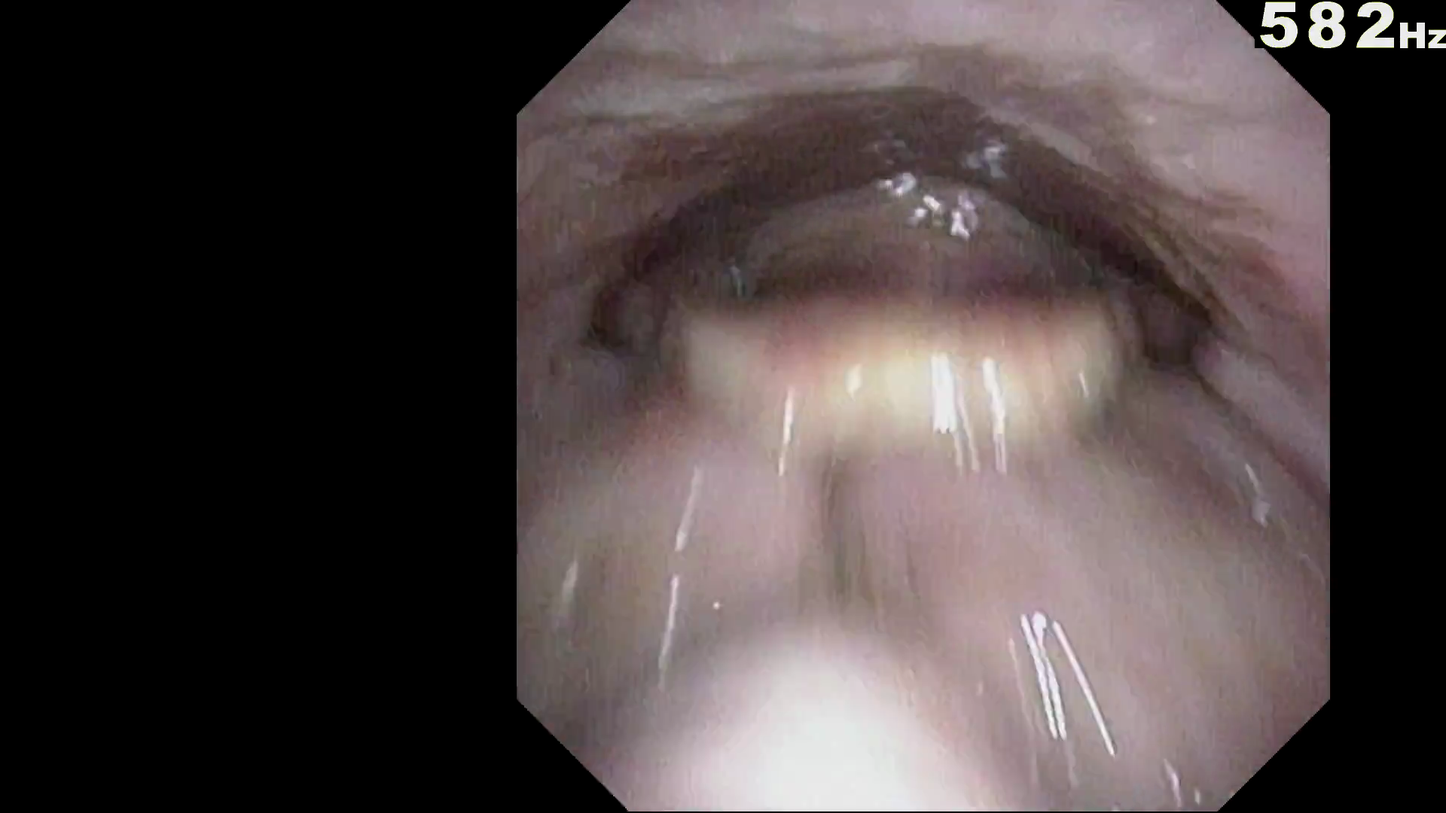epiglottis: (646, 311, 1171, 518)
trachea: (880, 330, 991, 453)
